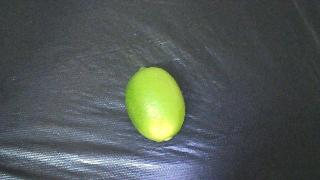LOCAL: (125, 67, 185, 142)
